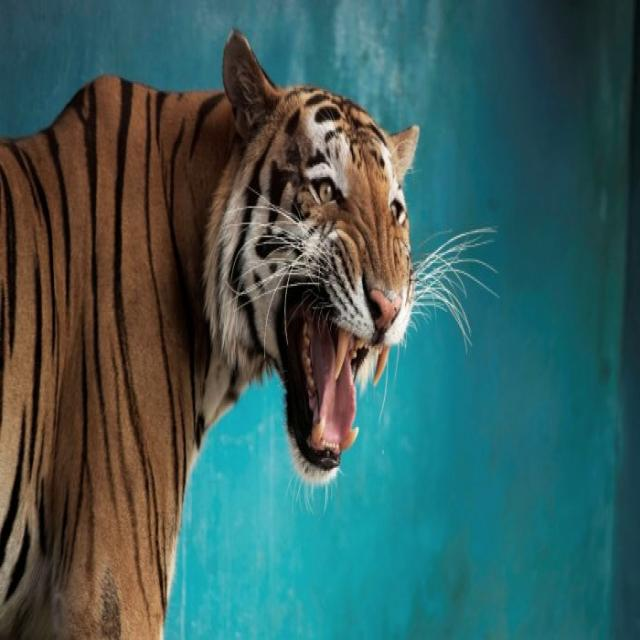tiger: (1, 31, 496, 638)
